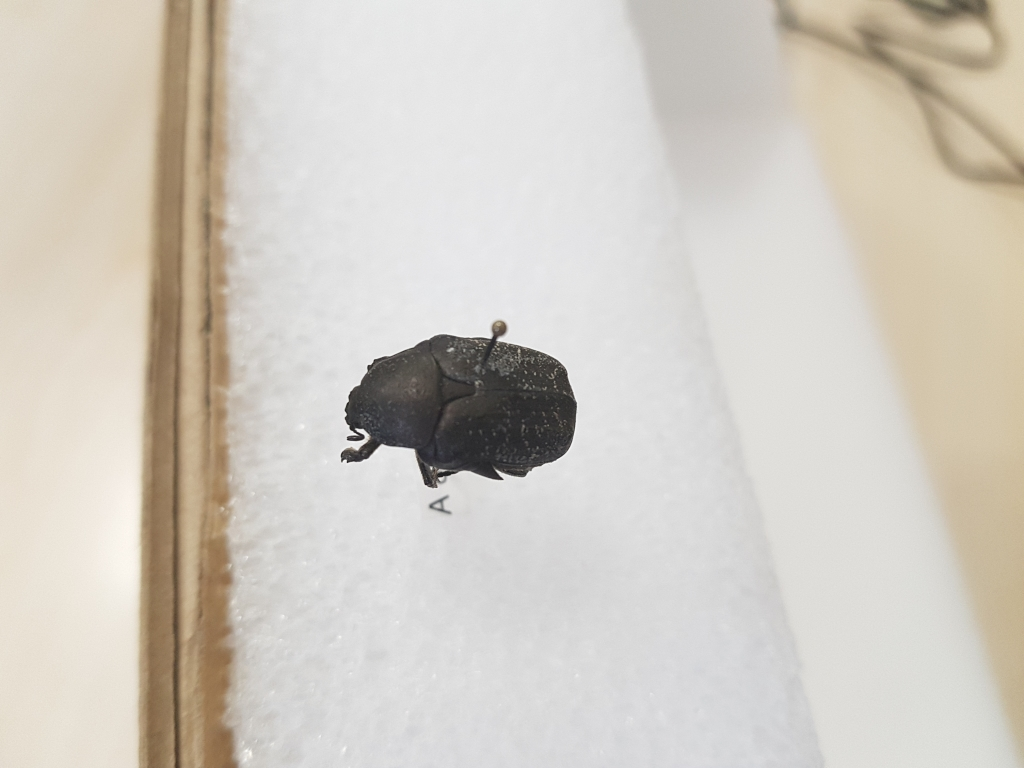Protaetia_asiatica: (325, 326, 583, 491)
